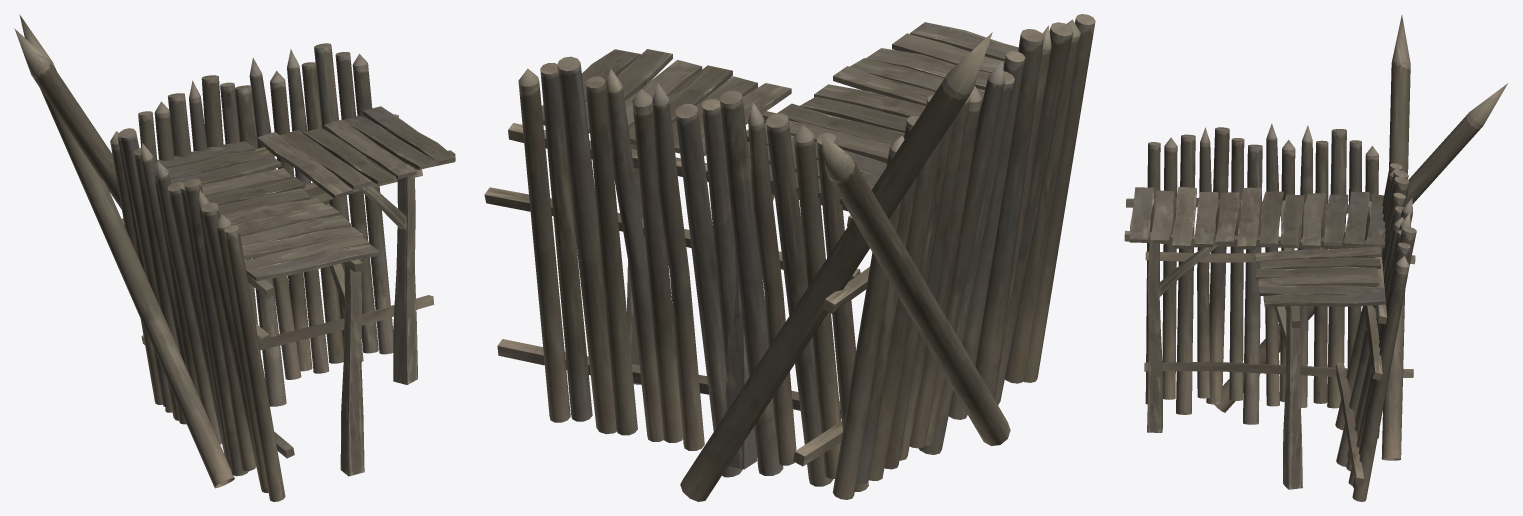
File: build_wall_corner_01_low.glb
The picture shows the model from 3 angles, left to right: view 1: azimuth 30°, elevation 25°; view 2: azimuth 150°, elevation 25°; view 3: azimuth 270°, elevation 25°; orthographic projection. The views are drawn at different scales.
Visible parts, largest first — view 1: build_village_fence_corner_01; view 2: build_village_fence_corner_01; view 3: build_village_fence_corner_01.
Part boxes in pixels (left/top/right/bottom): build_village_fence_corner_01: left=14, top=14, right=455, bottom=501; build_village_fence_corner_01: left=484, top=14, right=1095, bottom=501; build_village_fence_corner_01: left=1124, top=15, right=1507, bottom=501.
Bounding box in the file's own units: 7.61 × 7.59 × 7.45.
Materials: 1 (1 with a texture image).
